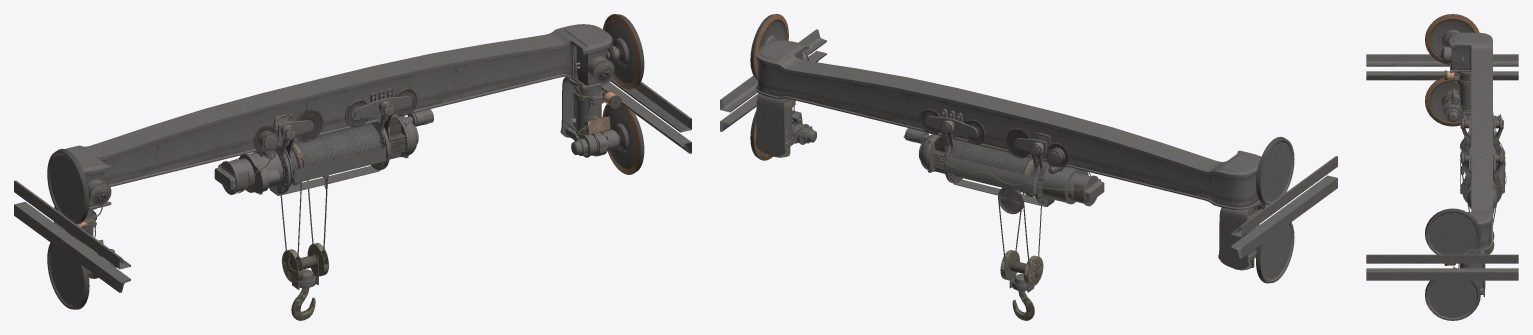
The model's file is overhead_crane_2k.gltf.
3 views of the same model, side by side, from view 1: azimuth 30°, elevation 25°; view 2: azimuth 150°, elevation 25°; view 3: azimuth 270°, elevation 25° (orthographic). The views are drawn at different scales.
Visible parts, largest first — view 1: overhead_crane, overhead_crane_winch, overhead_crane_rails; view 2: overhead_crane, overhead_crane_winch, overhead_crane_rails; view 3: overhead_crane, overhead_crane_rails, overhead_crane_winch.
Boxes of the visible parts, <box> form: overhead_crane: <box>47,14,644,309</box>; overhead_crane_winch: <box>214,88,433,320</box>; overhead_crane_rails: <box>14,77,691,292</box>; overhead_crane: <box>750,14,1294,283</box>; overhead_crane_winch: <box>903,108,1104,320</box>; overhead_crane_rails: <box>720,29,1337,258</box>; overhead_crane: <box>1425,14,1492,320</box>; overhead_crane_rails: <box>1366,54,1518,280</box>; overhead_crane_winch: <box>1460,112,1506,254</box>.
Size of the model in its own units: 12.49 by 5.13 by 4.
Materials: 2 (2 with a texture image).
